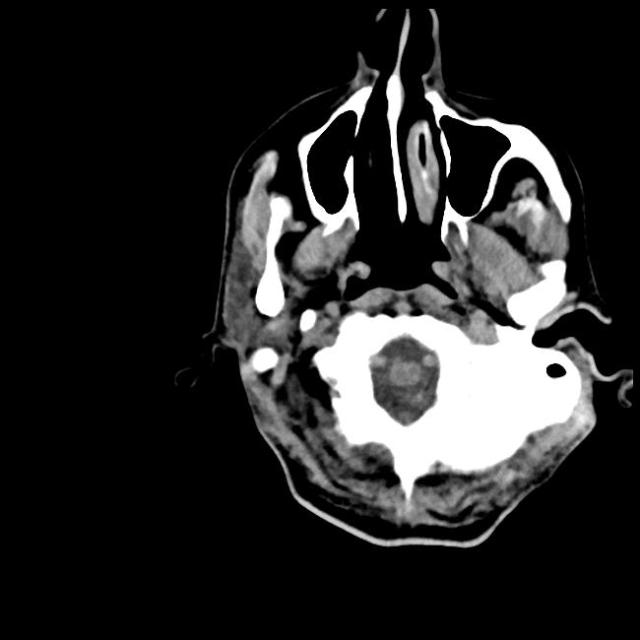lesion: (201, 6, 633, 551)
